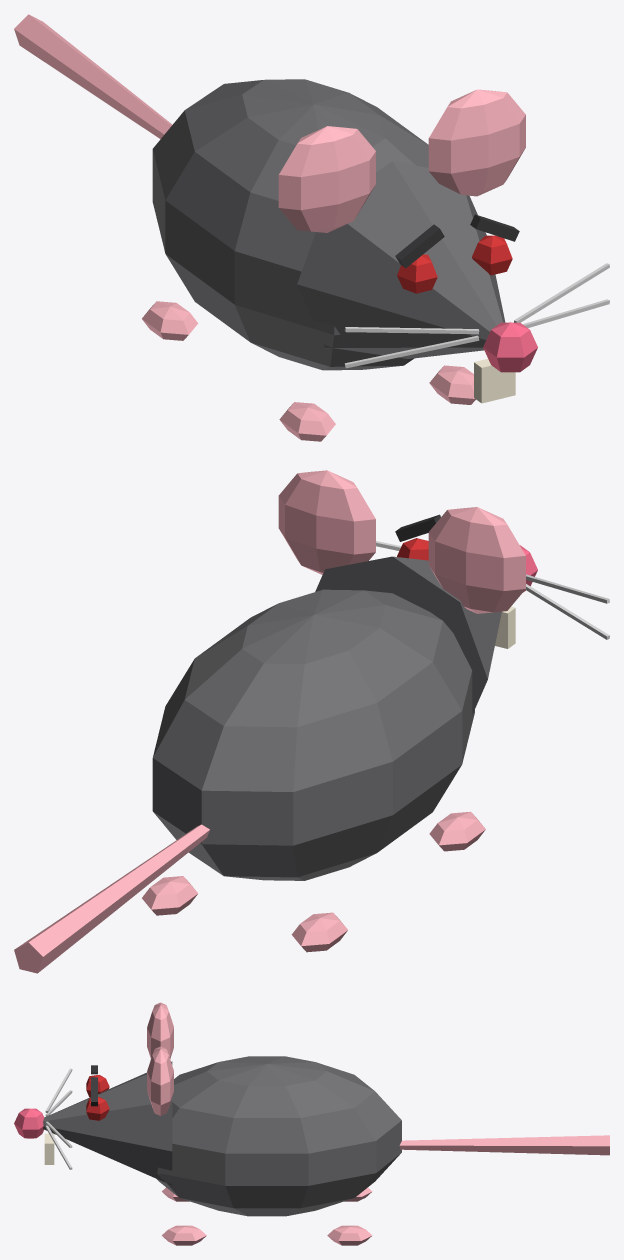
File: miniratte.glb
The picture shows the model from 3 angles, top to bottom: view 1: azimuth 30°, elevation 25°; view 2: azimuth 150°, elevation 25°; view 3: azimuth 270°, elevation 25°; orthographic projection. The views are drawn at different scales.
Parts seen in each view (by area): view 1: body-m, tail-m; view 2: body-m, tail-m; view 3: body-m, tail-m.
Part boxes in pixels (left/top/right/bottom): body-m: left=142, top=79, right=609, bottom=441; tail-m: left=14, top=14, right=172, bottom=138; body-m: left=142, top=470, right=609, bottom=952; tail-m: left=14, top=824, right=209, bottom=973; body-m: left=14, top=1002, right=401, bottom=1245; tail-m: left=399, top=1135, right=609, bottom=1155.
Size of the model in its own units: 0.7761 by 0.91 by 2.52.
